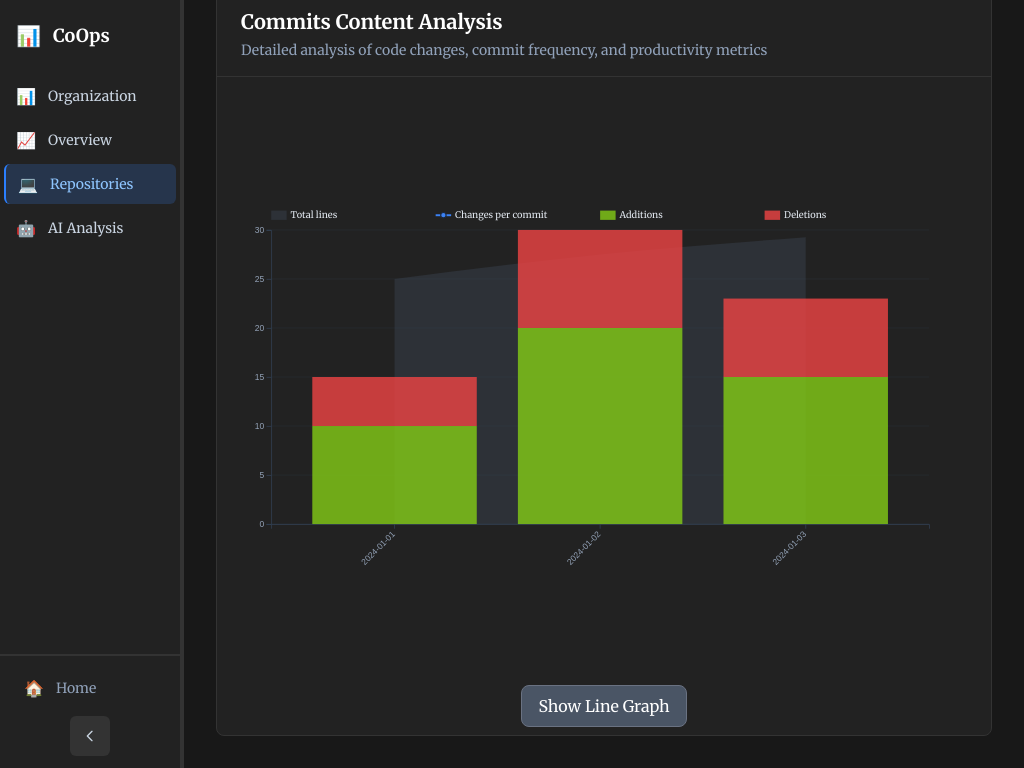
Test: CommitsPage Component › Interatividade › botão de toggle do line graph funciona
The width and height of the screenshot is (1024, 768).
(page scrolled)
Click the button "Show Line Graph": [604, 706] box [521,685,687,727]
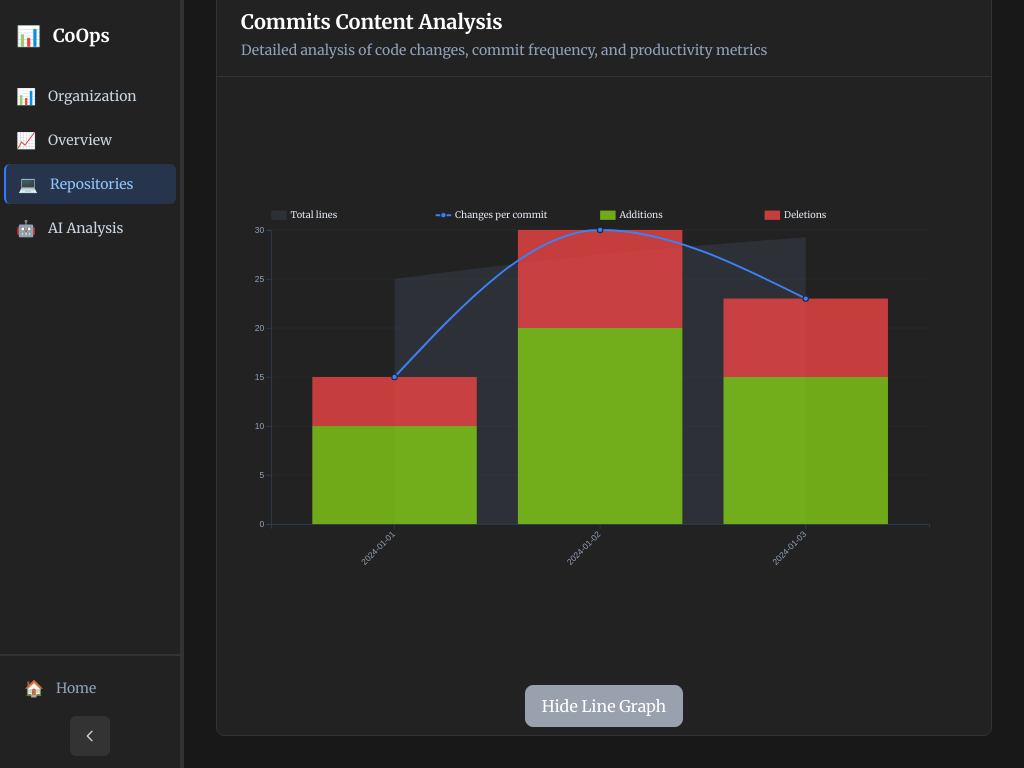
Result: the button "Hide Line Graph" is shown at [525,685,683,727]
